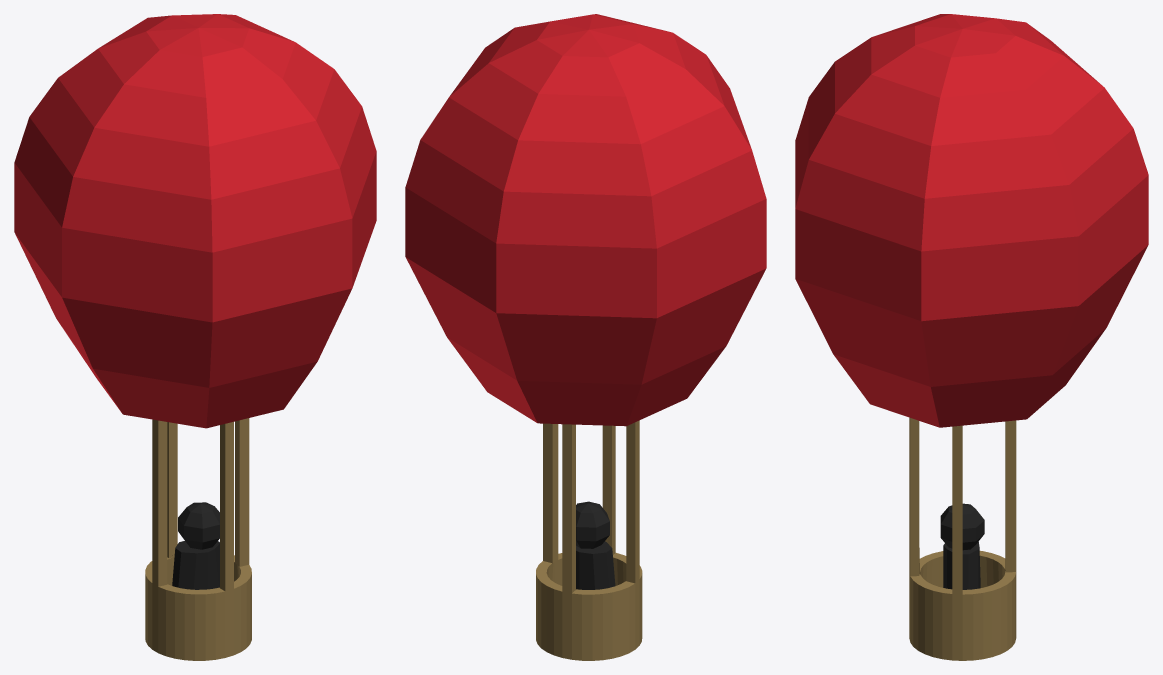
The model's file is Scripts.fbx.
The picture shows the model from 3 angles, left to right: view 1: azimuth 30°, elevation 25°; view 2: azimuth 150°, elevation 25°; view 3: azimuth 270°, elevation 25°; orthographic projection.
Parts seen in each view (by area): view 1: balloon_mesh, person_mesh; view 2: balloon_mesh, person_mesh; view 3: balloon_mesh, person_mesh.
Boxes of the visible parts, <box> form: balloon_mesh: <box>14,14,376,660</box>; person_mesh: <box>172,502,219,589</box>; balloon_mesh: <box>405,14,766,660</box>; person_mesh: <box>576,501,615,589</box>; balloon_mesh: <box>795,14,1148,660</box>; person_mesh: <box>940,503,984,589</box>.
Bounding box in the file's own units: 367 × 680 × 357.
